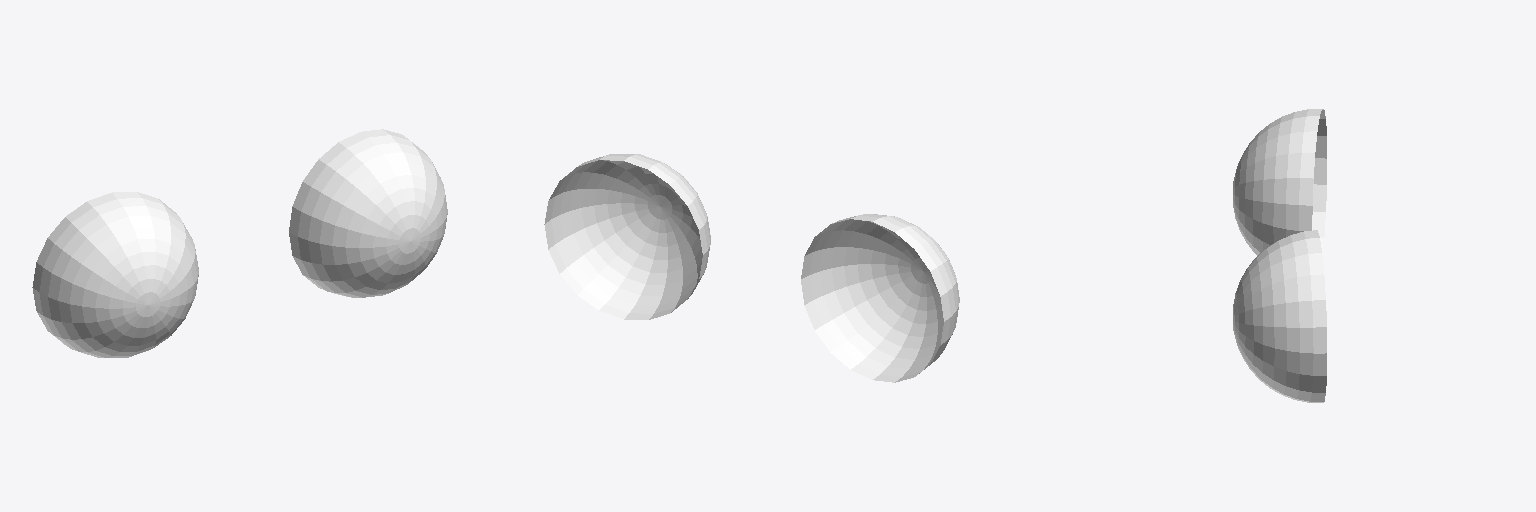
File: african_head_eye_inner.obj
3 views of the same model, side by side, from view 1: azimuth 30°, elevation 25°; view 2: azimuth 150°, elevation 25°; view 3: azimuth 270°, elevation 25° (orthographic).
Parts seen in each view (by area): view 1: eyeInner; view 2: eyeInner; view 3: eyeInner.
Boxes of the visible parts, box(x1,y1,x2,y2) form: eyeInner: box(32, 129, 447, 357); eyeInner: box(544, 154, 959, 382); eyeInner: box(1233, 109, 1326, 402).
Size of the model in its own units: 0.6013 by 0.2277 by 0.1237.